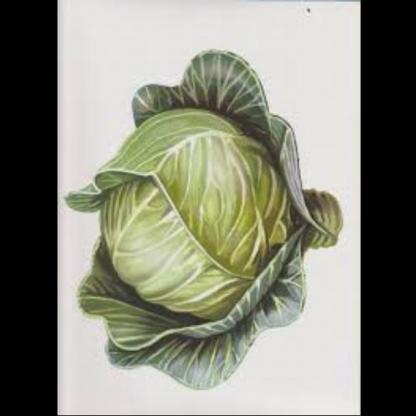cabbage: (74, 39, 338, 400)
